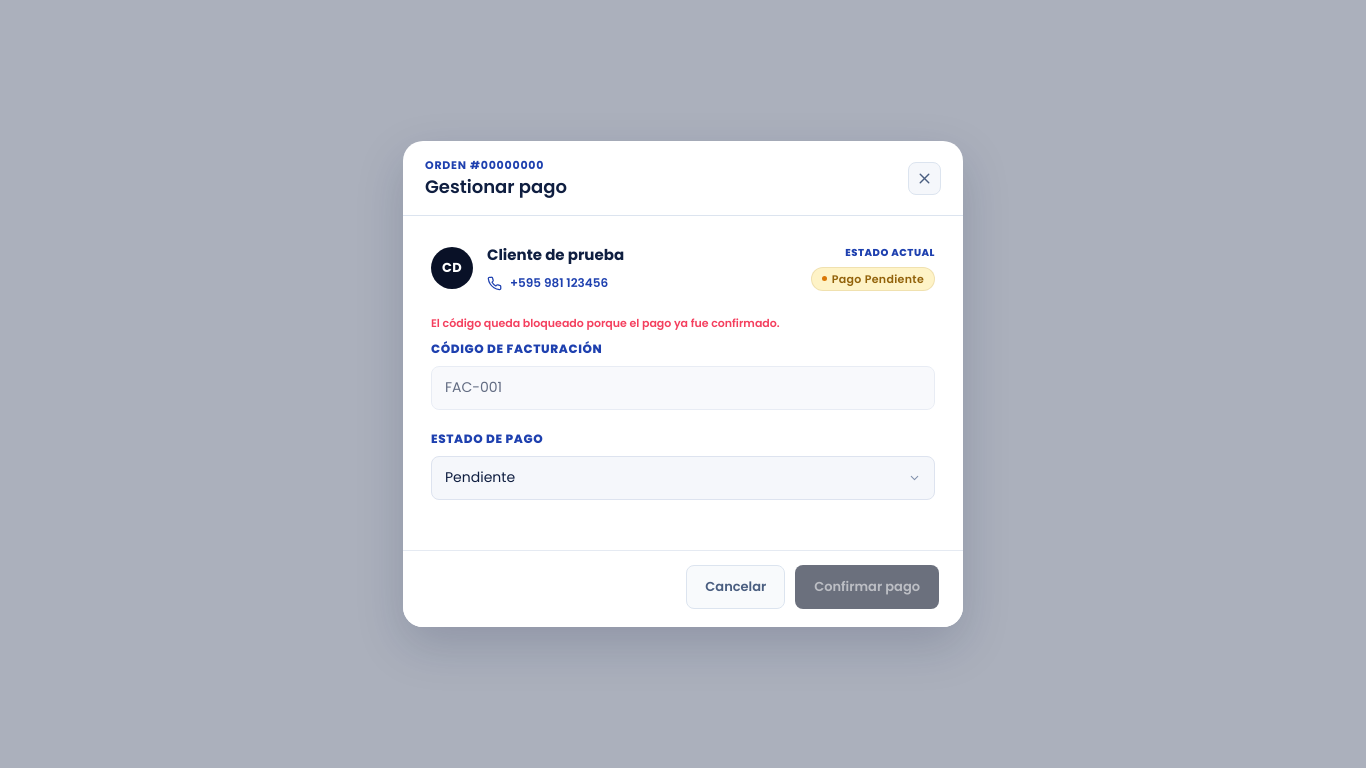
Scenario: PaymentFormModal layout › does not show the initial Pending blocker until Caja selects Pendiente
The width and height of the screenshot is (1366, 768).
Check: the text "El pago no puede confirmarse como Pendiente." is not shown
Select "Pendiente" in the dropdown at (683, 478), box [431,456,935,500]
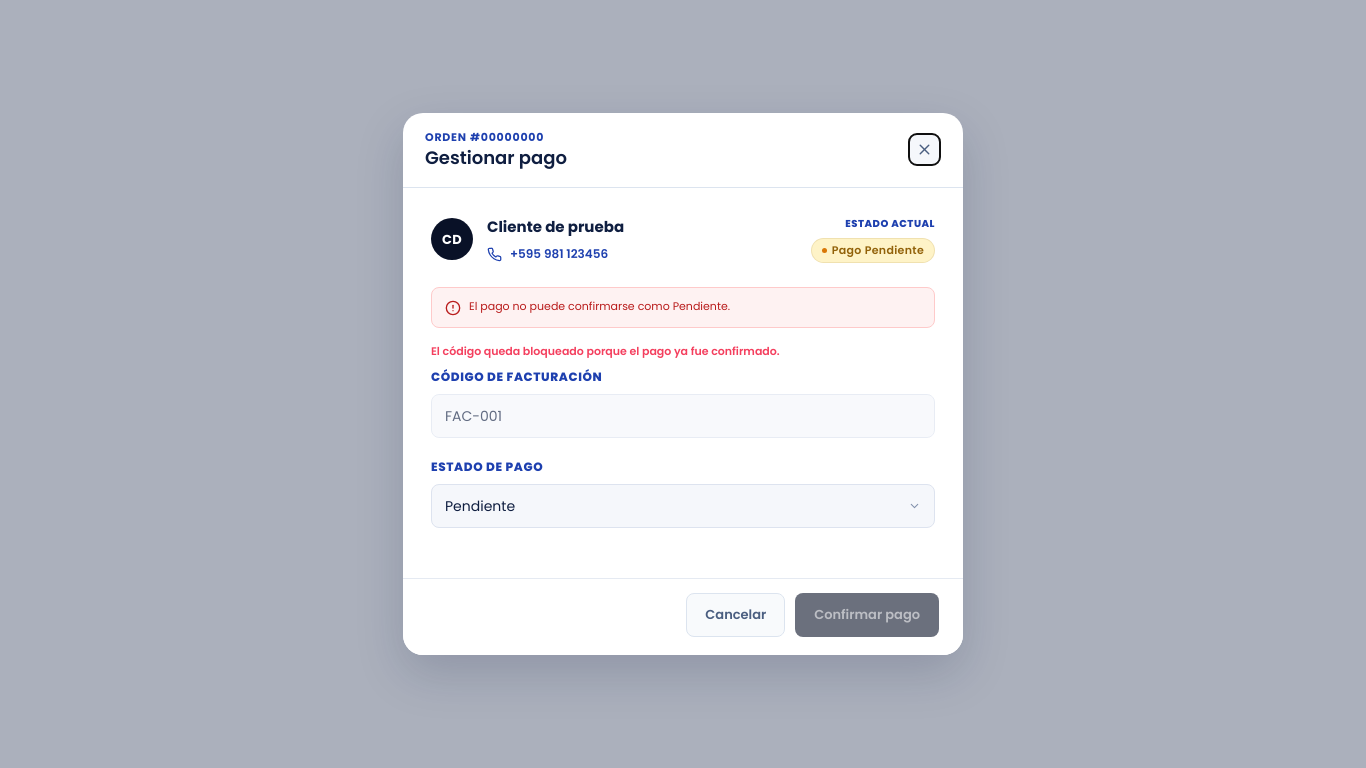
Check: the message reads "El pago no puede confirmarse como Pendiente.", box [469,298,730,314]
Select "Pago parcial" in the dropdown at (683, 506), box [431,484,935,528]
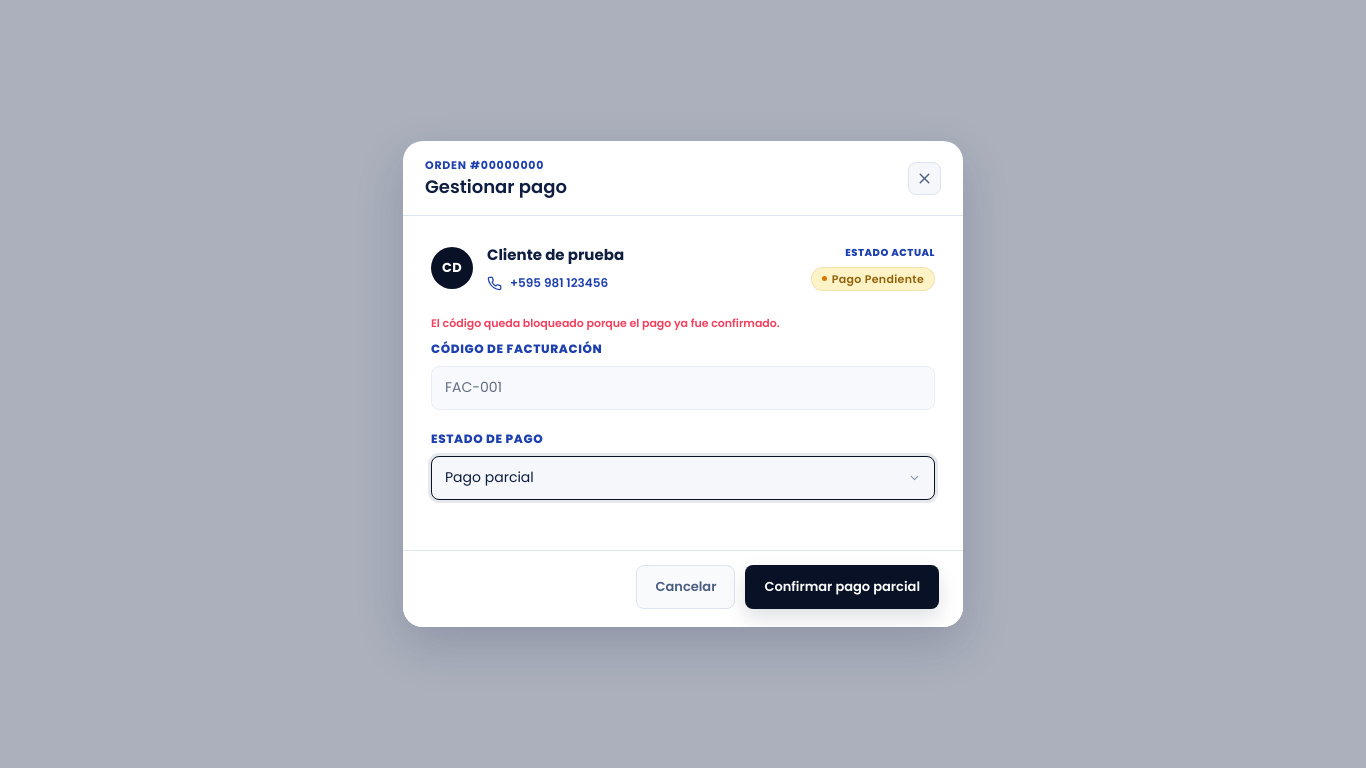
Check: the text "El pago no puede confirmarse como Pendiente." is gone
